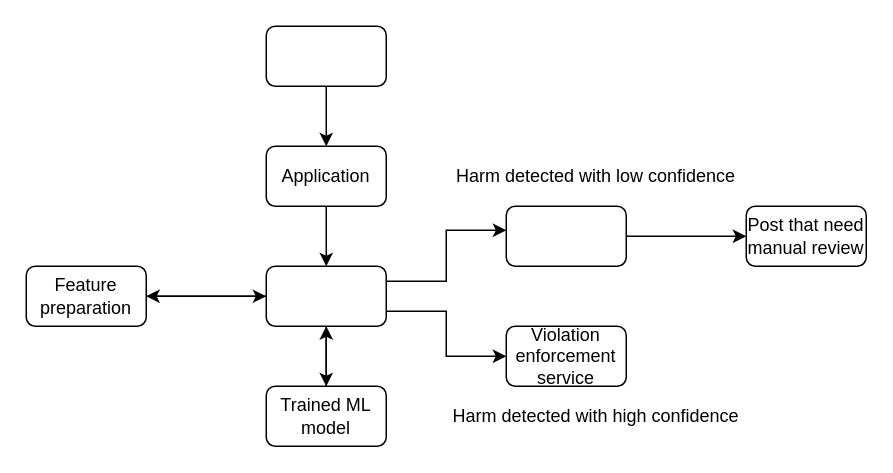
Image size: 893x473. Some labels were removed from this diagram. Here are the shapes that lost their labels. From the top down, the centre of each, then its label:
[325,55]: User
[565,235]: Demoting service
[325,295]: Detection service
